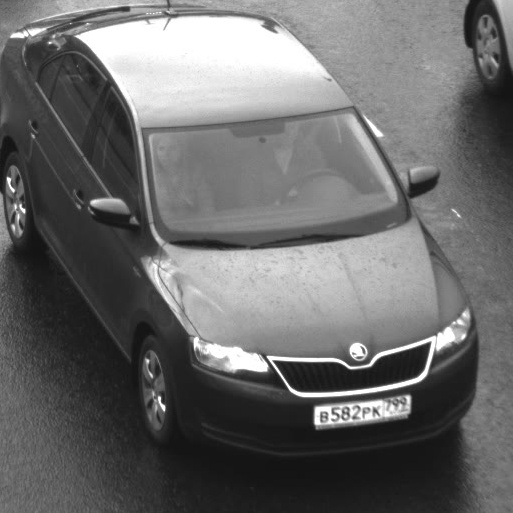plate: (302, 385, 419, 434)
